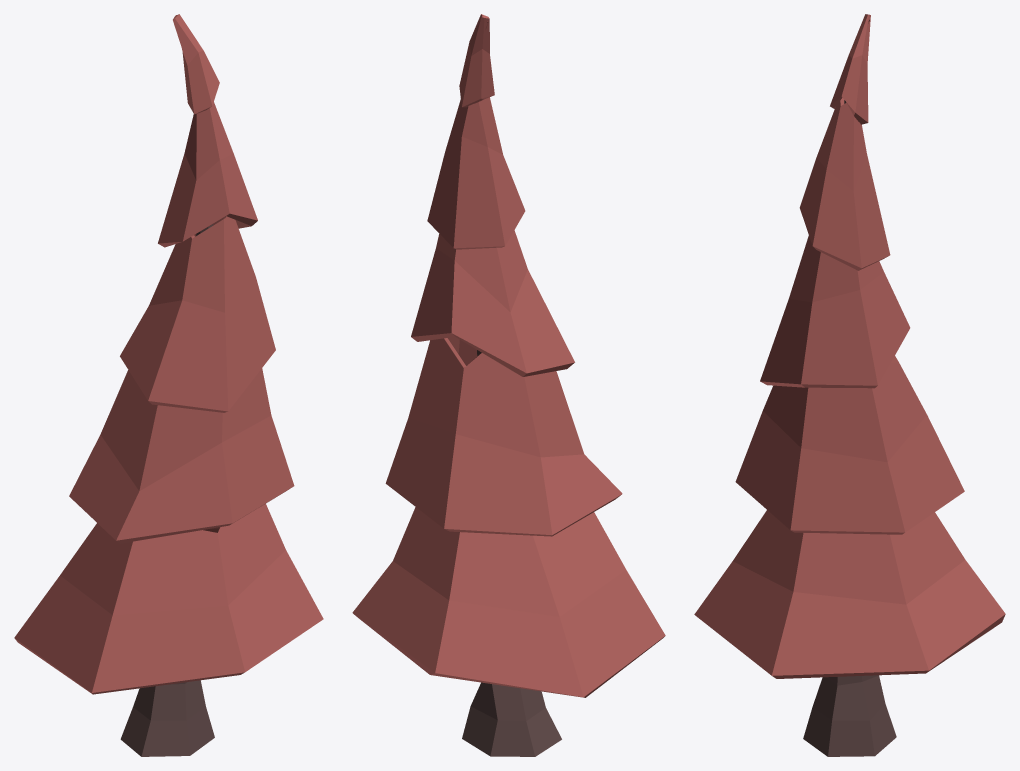
File: Tree_Pine8.fbx
3 renders of one model, left to right at view 1: azimuth 30°, elevation 25°; view 2: azimuth 150°, elevation 25°; view 3: azimuth 270°, elevation 25°, orthographic. The views are drawn at different scales.
Visible parts, largest first — view 1: Cylinder.016; view 2: Cylinder.016; view 3: Cylinder.016.
Part boxes in pixels (x1,y1,x2,y2): Cylinder.016: (14,14,323,756); Cylinder.016: (352,14,665,756); Cylinder.016: (694,14,1005,756).
Size of the model in its own units: 272 by 801 by 308.
